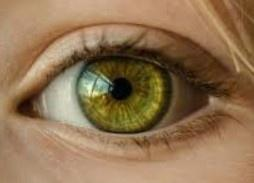eye: (76, 57, 175, 136)
